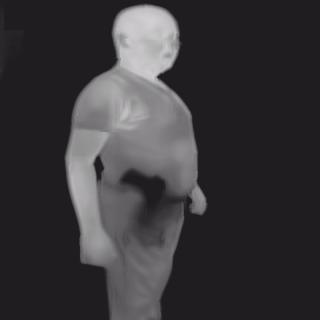Gun: (119, 168, 167, 211)
